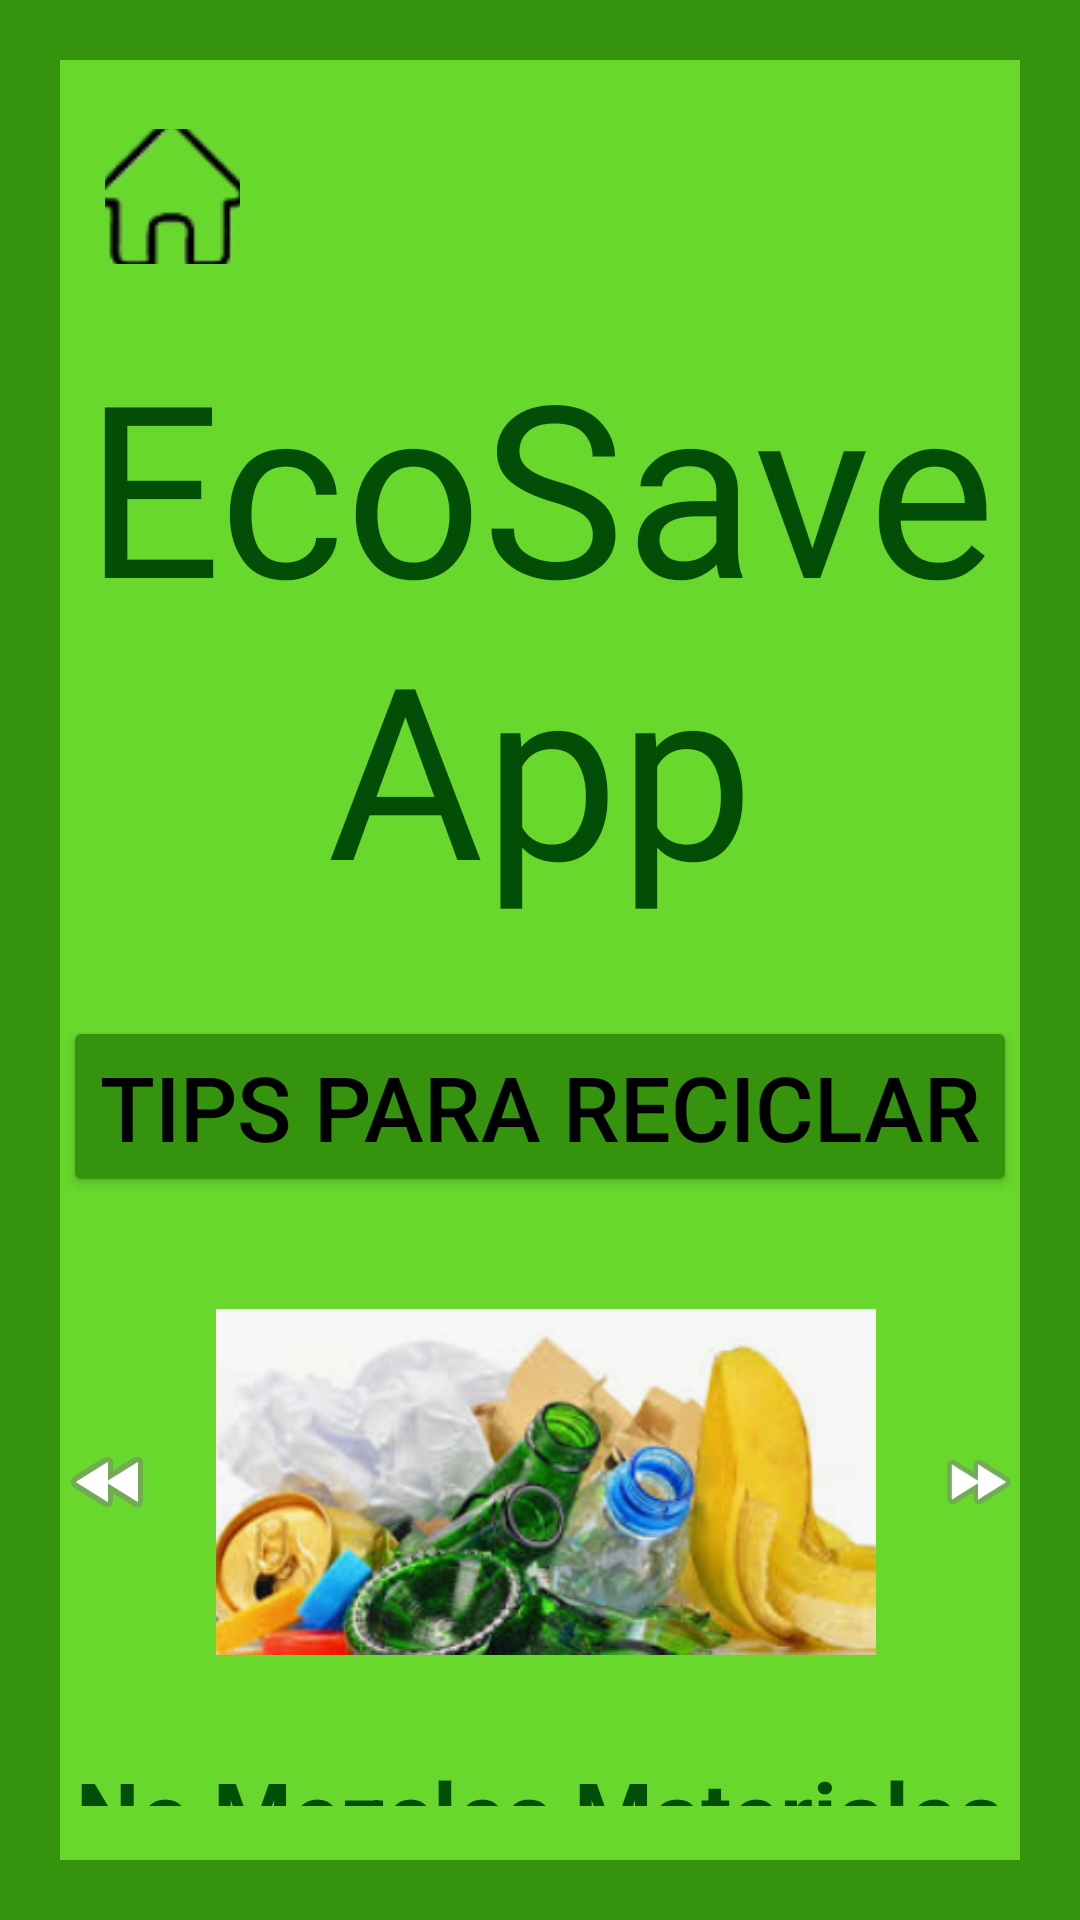

Icons on this 1080px x 1920px Android screen, each with the point to tap as (x=x, y=y):
casa: (x=172, y=196)
rew: (x=107, y=1482)
